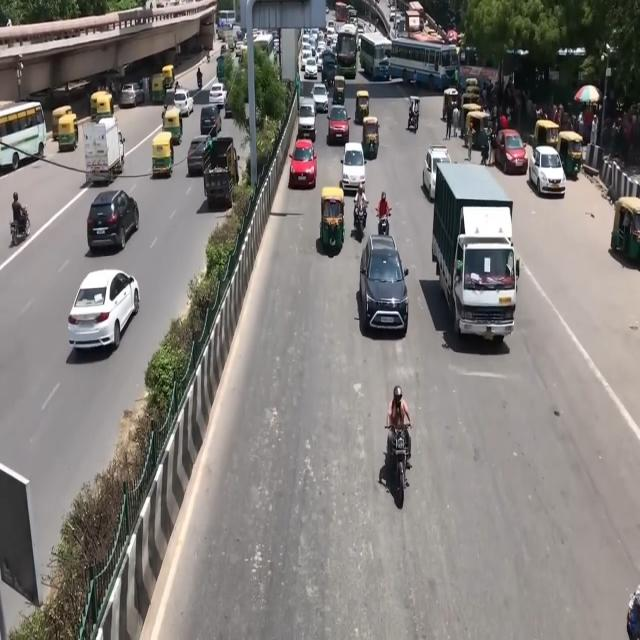auto: (321, 182, 348, 267), (614, 186, 640, 264), (560, 124, 591, 182), (149, 130, 175, 180), (466, 110, 494, 156), (361, 115, 382, 168), (534, 109, 560, 149), (163, 108, 183, 153), (57, 118, 79, 156), (354, 80, 370, 132), (51, 100, 70, 142), (90, 88, 108, 128), (94, 98, 112, 133), (333, 69, 347, 109), (162, 60, 176, 94), (152, 74, 166, 102)
bike-auto: (380, 385, 426, 530), (6, 183, 35, 271), (354, 169, 370, 254), (373, 192, 392, 259), (408, 89, 425, 143)
